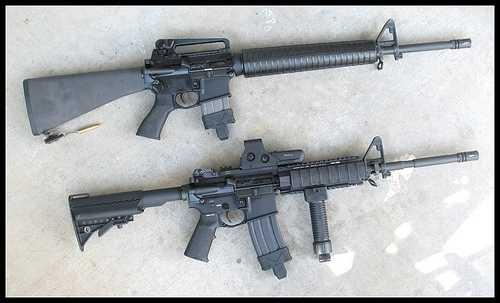heavyweapon: (71, 119, 491, 294), (13, 16, 478, 163)
